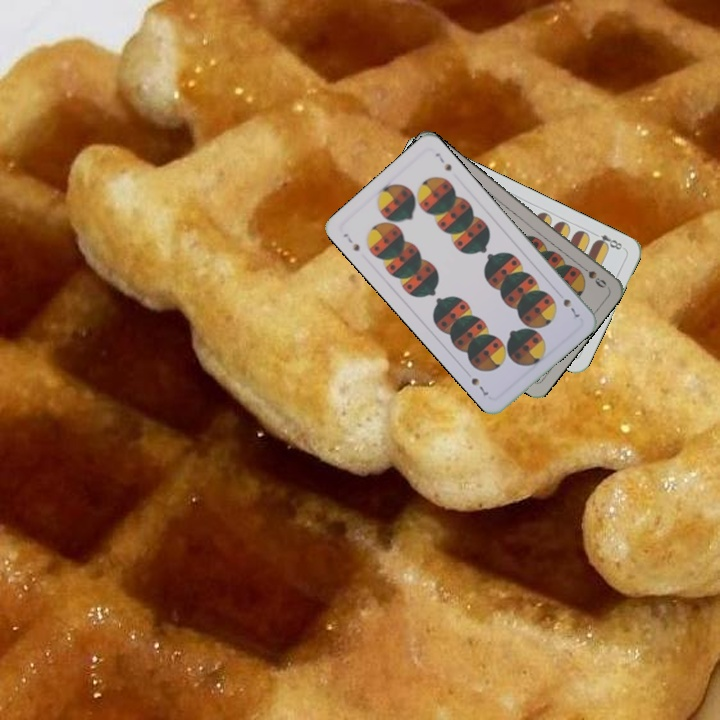E8: (589, 228, 627, 252)
S7: (559, 295, 584, 322), (339, 229, 362, 254)
S9: (575, 260, 609, 291)
